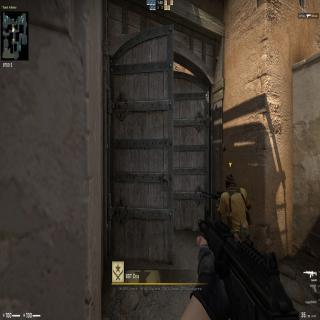T-Head: (225, 172, 235, 188)
